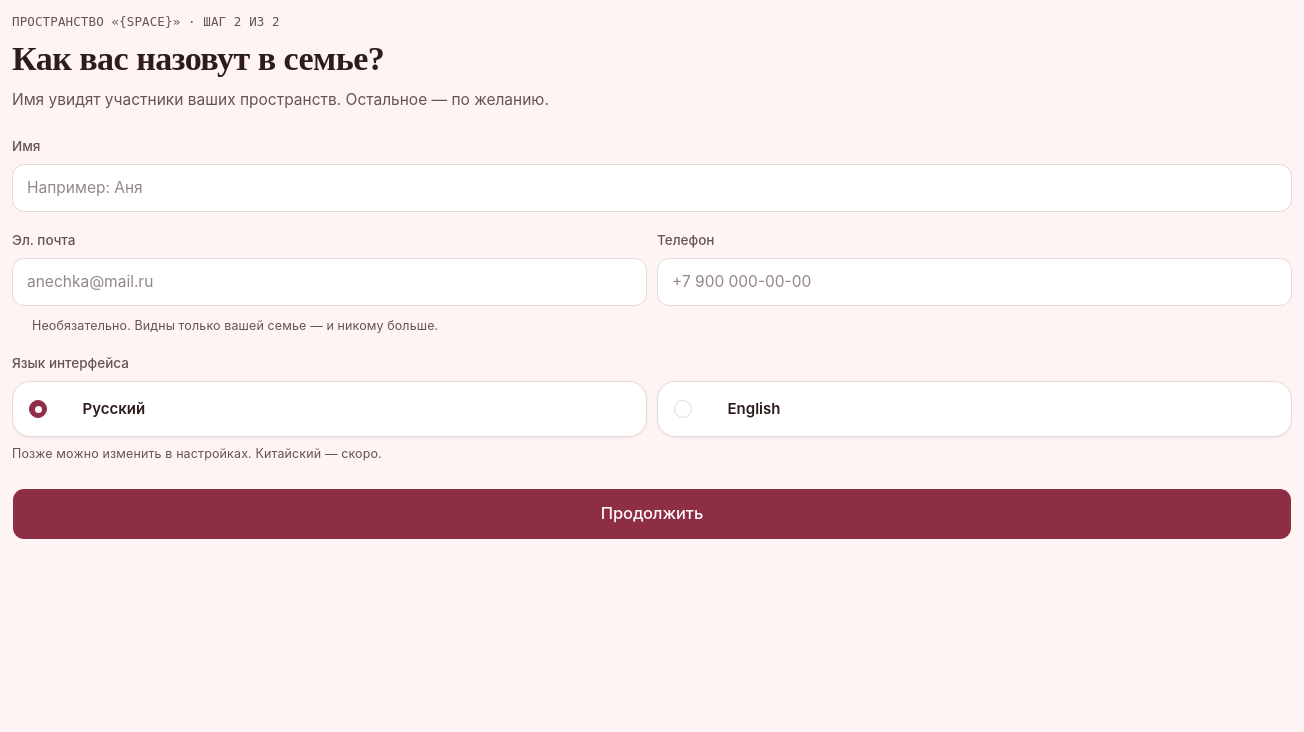
Test: OnboardingForm › explains a validation refusal inline
Type " a " into the field labelled "Эл. почта" at (330,282), box [12,258,647,306]
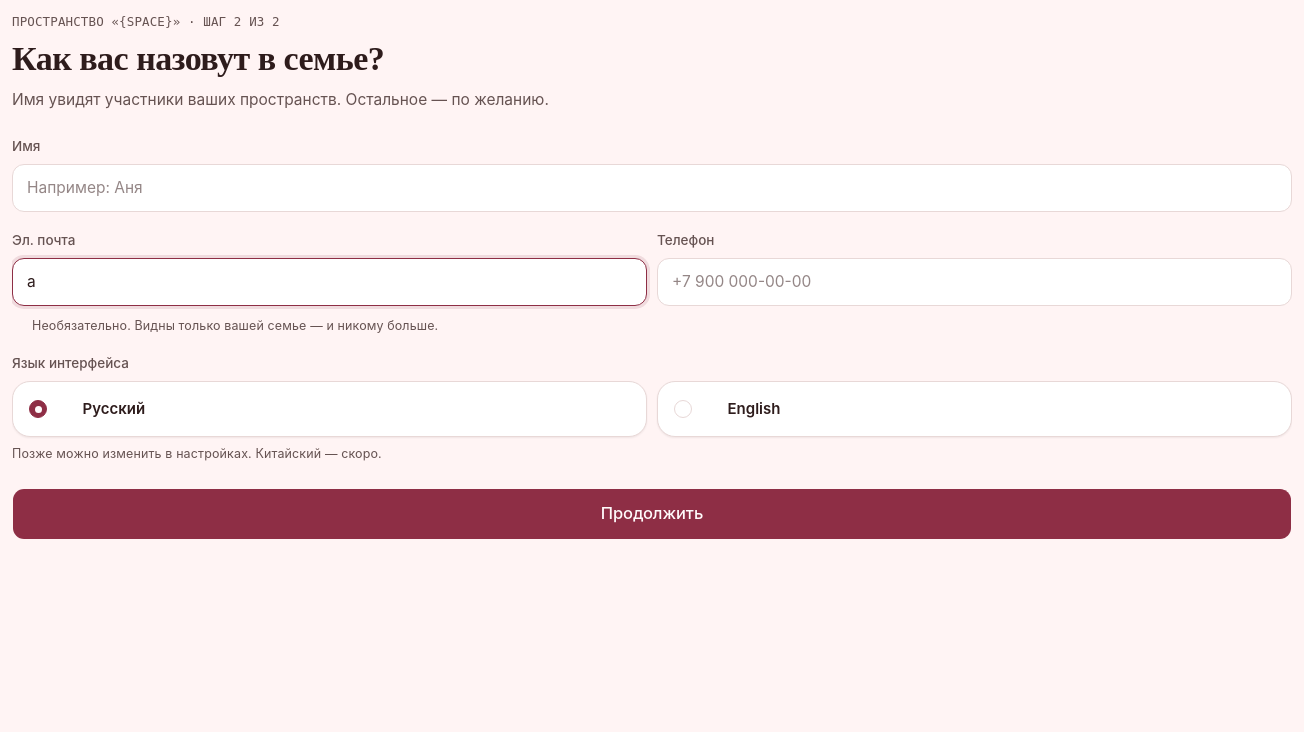
Click the button "Продолжить" at (652,514), box [12,488,1292,540]
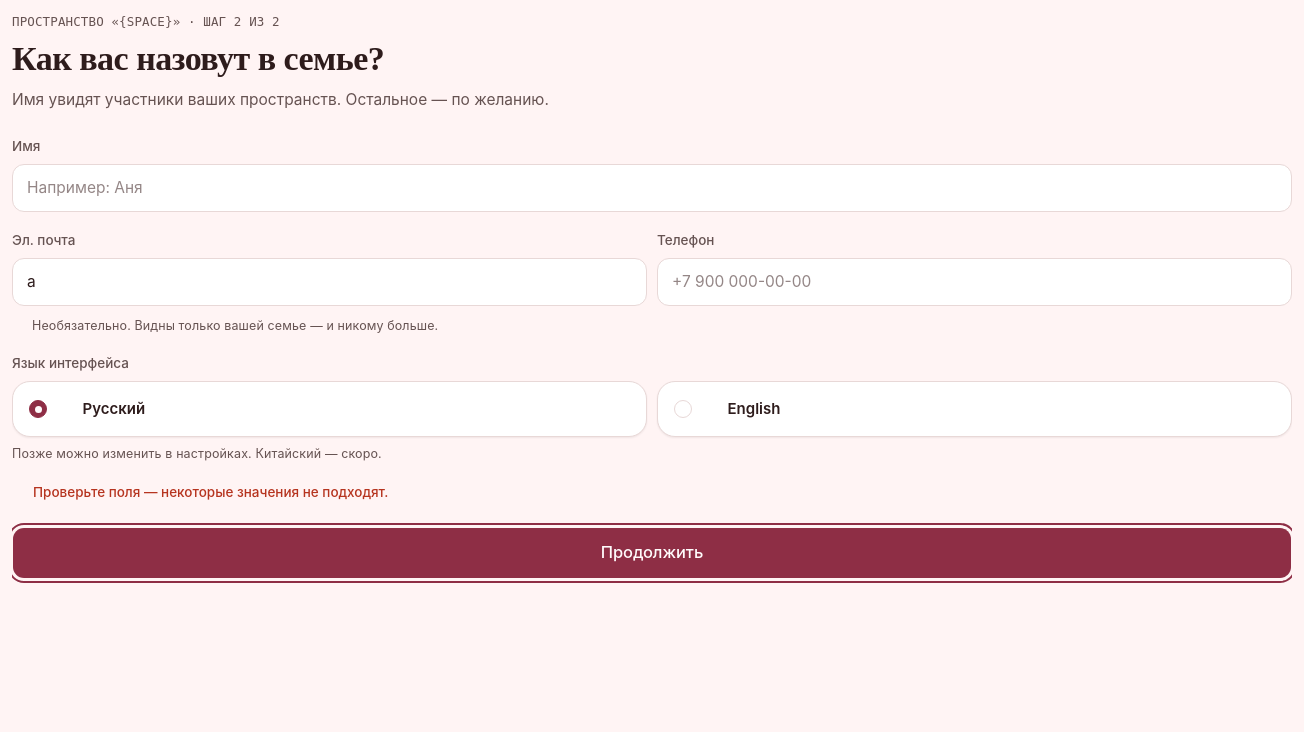
Check: the message reads "Проверьте поля — некоторые значения не подходят.", box [33,484,388,500]
